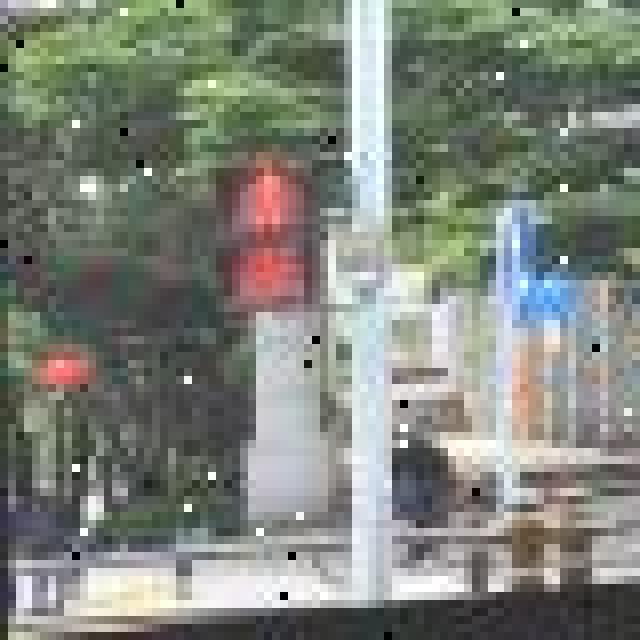redlight: (222, 150, 309, 314)
